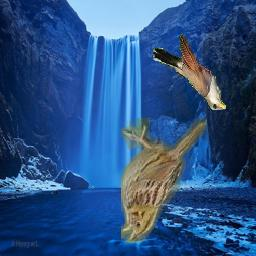Cuckoo: (154, 32, 227, 111)
Sparrow: (121, 119, 207, 244)
